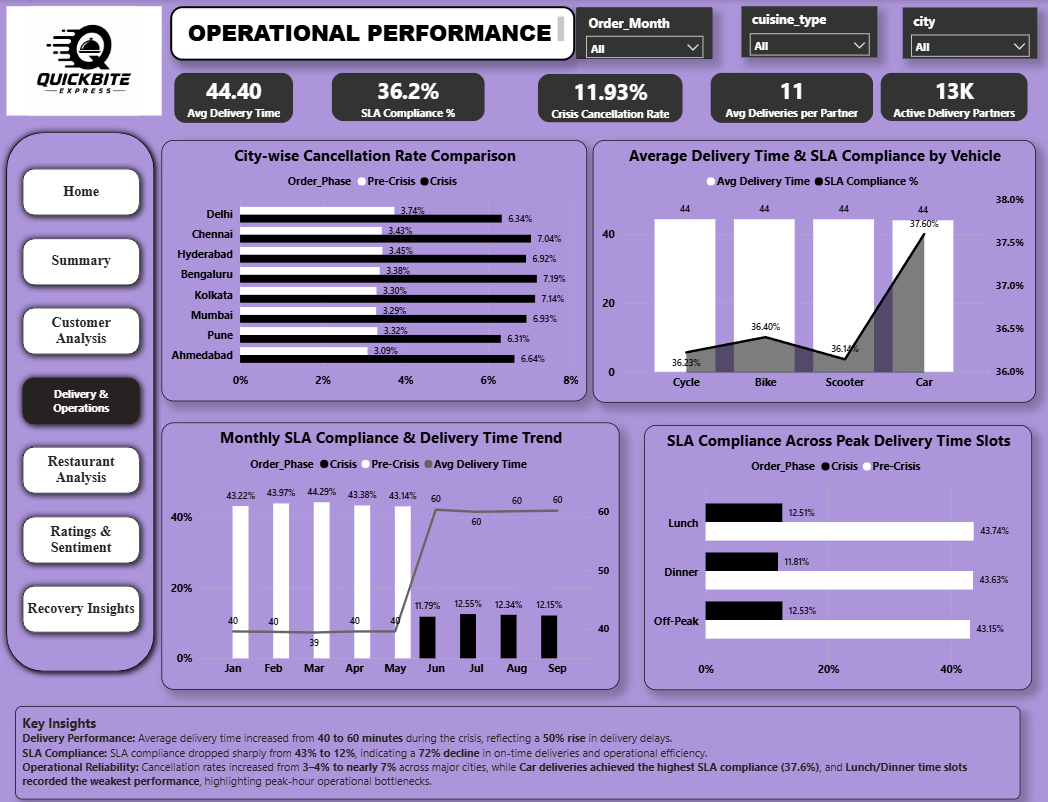

This screenshot's page, from the dashboard's own definition file:
{"tool":"powerbi","page":{"name":"Delivery & Operations","canvas":[1300,1000],"ordinal":3},"visuals":[{"type":"cardVisual","fields":{"Data":["delivery_performance_data.Avg Delivery Time"]},"box":[211.8,85,157.7,72.7],"z":0},{"type":"cardVisual","fields":{"Data":["delivery_performance_data.SLA Compliance %"]},"box":[407.2,85.5,199.4,70.4],"z":1000},{"type":"cardVisual","fields":{"Data":["delivery_partners_data.Avg Deliveries per Partner"]},"box":[874.7,85.5,211.1,72.1],"z":2000},{"type":"textbox","box":[211.1,8.4,501,67],"z":3000},{"type":"shape","box":[0,154.6,201,684.9],"z":4000},{"type":"pageNavigator","box":[20,200,163.3,596.7],"z":5000},{"type":"cardVisual","fields":{"Data":["delivery_performance_data.Crisis Cancellation Rate"]},"box":[661.9,87.1,189.3,70.4],"z":6000},{"type":"cardVisual","fields":{"Data":["delivery_partners_data.Active Delivery Partners"]},"box":[1085.8,85.5,192.7,70.4],"z":7000},{"type":"slicer","fields":{"Values":["orders_data.Order_Month"]},"box":[715,10,168.3,63.3],"z":8000},{"type":"slicer","fields":{"Values":["restaurant_data.city"]},"box":[1118.3,10,166.7,63.3],"z":9000},{"type":"slicer","fields":{"Values":["restaurant_data.cuisine_type"]},"box":[918.3,8.3,168.3,63.3],"z":10000},{"type":"image","box":[10,8.3,191.7,135],"z":11000},{"type":"textbox","box":[20,873.3,1243.3,115],"z":12000},{"type":"lineClusteredColumnComboChart","title":"Monthly SLA Compliance & Delivery Time Trend","fields":{"Category":["orders_data.Order_Month"],"Y2":["delivery_performance_data.Avg Delivery Time"],"Series":["orders_data.Order_Phase"],"Y":["delivery_performance_data.SLA Compliance %"]},"box":[201.7,523.3,566.7,330],"z":13000},{"type":"clusteredBarChart","title":"City-wise Cancellation Rate Comparison","fields":{"Y":["orders_data.Cancellation Rate %"],"Category":["customer_data.city"],"Series":["orders_data.Order_Phase"]},"box":[201.7,173.3,526.7,323.3],"z":14000},{"type":"lineClusteredColumnComboChart","title":"Average Delivery Time & SLA Compliance by Vehicle","fields":{"Category":["delivery_partners_data.vehicle_type"],"Y":["delivery_performance_data.Avg Delivery Time"],"Y2":["delivery_performance_data.SLA Compliance %"]},"box":[735,173.3,548.3,325],"z":15000},{"type":"clusteredBarChart","title":"SLA Compliance Across Peak Delivery Time Slots","fields":{"Category":["orders_data.Time Bucket"],"Series":["orders_data.Order_Phase"],"Y":["delivery_performance_data.SLA Compliance %"]},"box":[798.3,525,480,328.3],"z":16000}]}

Visuals, with their boxes in screenshot pixels (x1, y1, x2, y2), scaled from the page's 1300x1000 canvas onto the 1048x802 screenshot:
cardVisual - delivery_performance_data.Avg Delivery Time: 171,68,298,126
cardVisual - delivery_performance_data.SLA Compliance %: 328,69,489,125
cardVisual - delivery_partners_data.Avg Deliveries per Partner: 705,69,875,126
textbox: 170,7,574,60
shape: 0,124,162,673
pageNavigator: 16,160,148,639
cardVisual - delivery_performance_data.Crisis Cancellation Rate: 534,70,686,126
cardVisual - delivery_partners_data.Active Delivery Partners: 875,69,1031,125
slicer - orders_data.Order_Month: 576,8,712,59
slicer - restaurant_data.city: 902,8,1036,59
slicer - restaurant_data.cuisine_type: 740,7,876,57
image: 8,7,163,115
textbox: 16,700,1018,793
"Monthly SLA Compliance & Delivery Time Trend" lineClusteredColumnComboChart: 163,420,619,684
"City-wise Cancellation Rate Comparison" clusteredBarChart: 163,139,587,398
"Average Delivery Time & SLA Compliance by Vehicle" lineClusteredColumnComboChart: 593,139,1035,400
"SLA Compliance Across Peak Delivery Time Slots" clusteredBarChart: 644,421,1031,684
